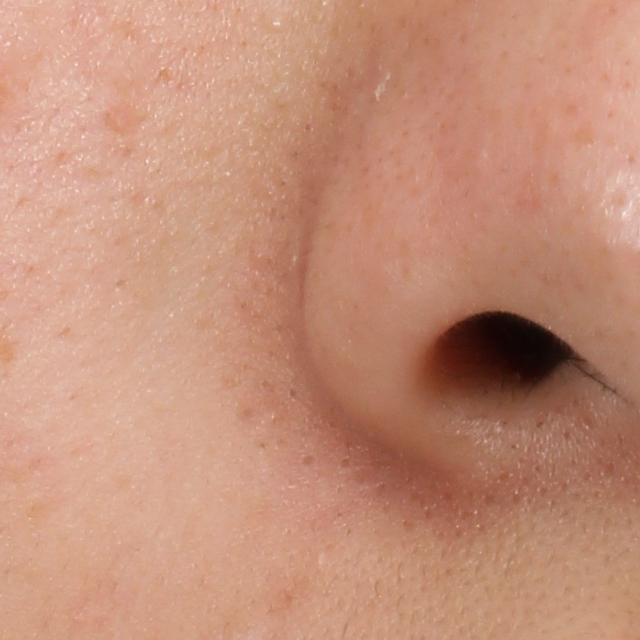comedo: (263, 13, 290, 33)
